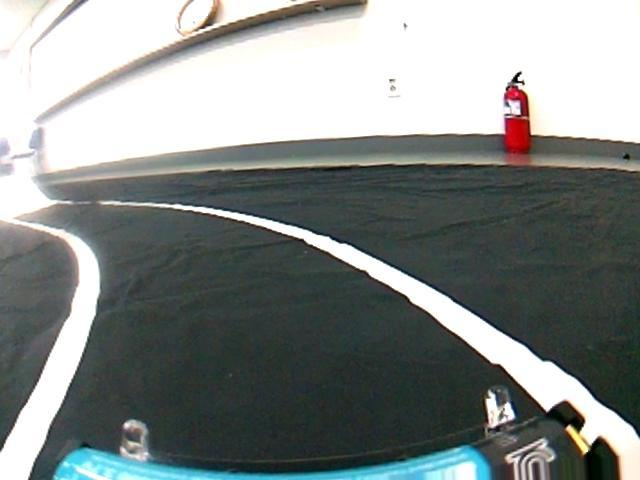left: (4, 196, 640, 480)
